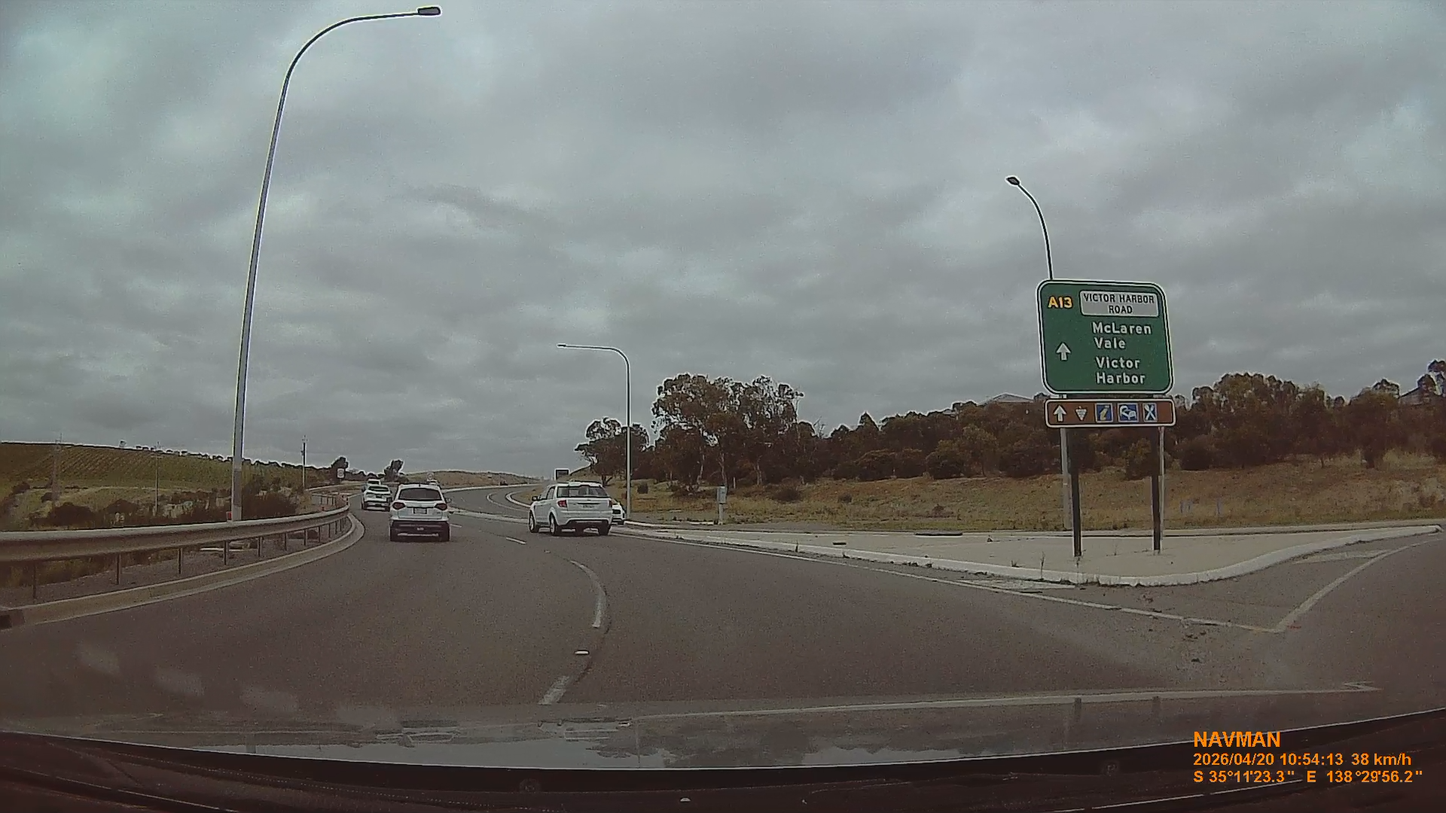road barriers: (0, 505, 349, 563)
